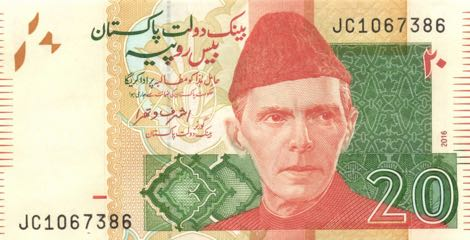20 rupee: (6, 6, 462, 236)
